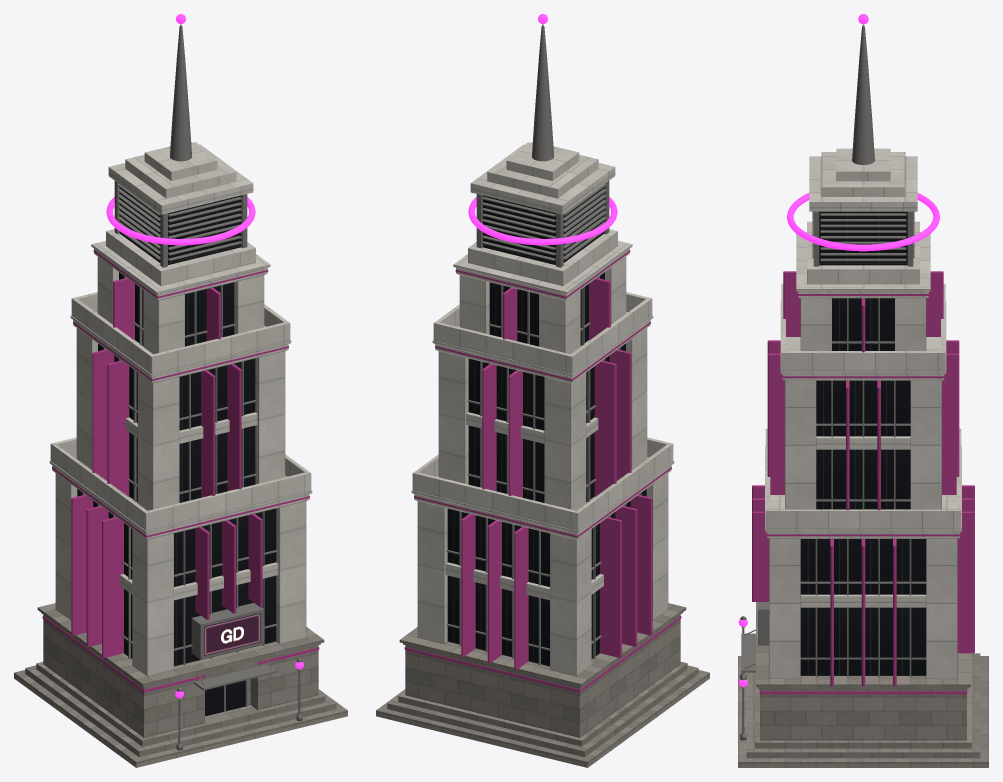
File: s27-genomic-dao.glb
The picture shows the model from 3 angles, left to right: view 1: azimuth 30°, elevation 25°; view 2: azimuth 150°, elevation 25°; view 3: azimuth 270°, elevation 25°; orthographic projection. The views are drawn at different scales.
Parts seen in each view (by area): view 1: Landmark · Genomic.DAO (Series 27); view 2: Landmark · Genomic.DAO (Series 27); view 3: Landmark · Genomic.DAO (Series 27).
Boxes of the visible parts, box(x1,y1,x2,y2) form: Landmark · Genomic.DAO (Series 27): box(14, 14, 347, 767); Landmark · Genomic.DAO (Series 27): box(376, 14, 709, 767); Landmark · Genomic.DAO (Series 27): box(738, 14, 988, 767).
Size of the model in its own units: 12 by 37 by 12.
7 materials, 4 textured.
